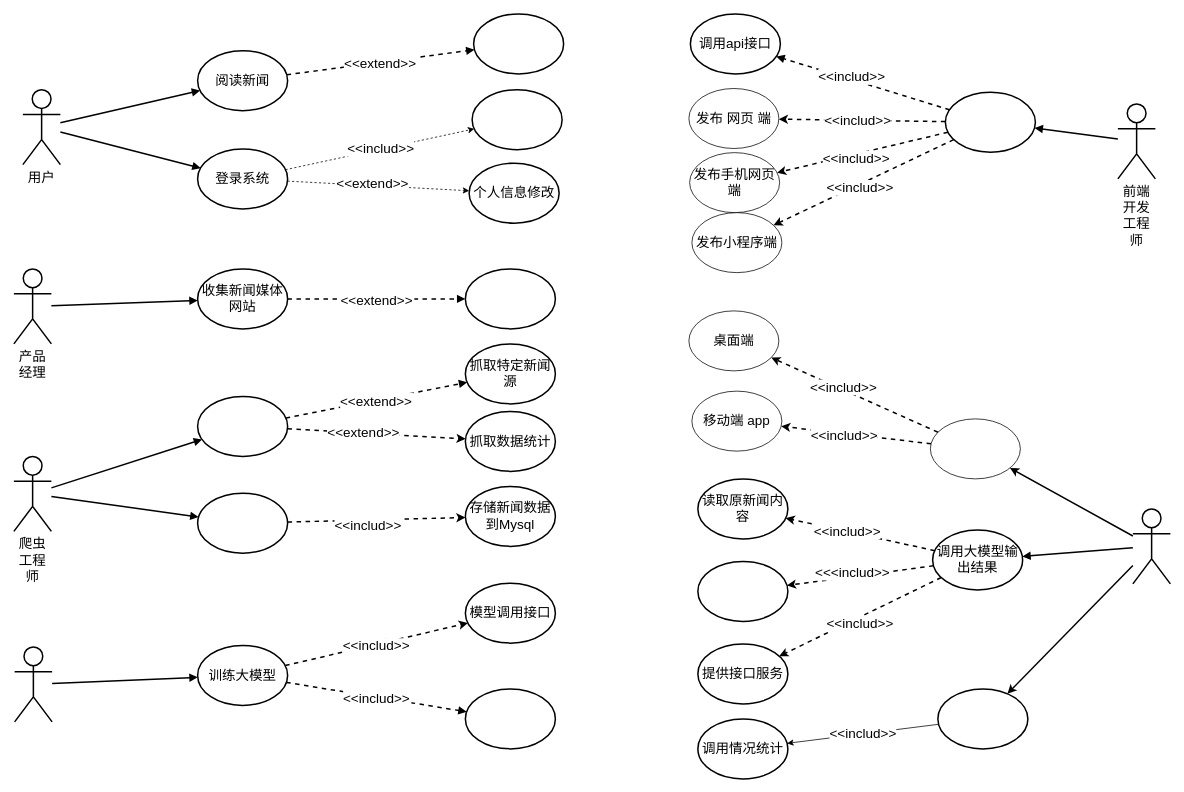
This 1184x792 diagram has some shape labels left out. Here are the shapes that lost their labels. From the top down, the centre of each, then its label:
[518,43]: 内容长度 设置
[516,119]: 登录验证
[990,122]: 开发新闻阅读页面
[510,298]: 收集用户反馈
[242,426]: 抓取新闻数据
[975,448]: 打包新闻阅读应用
[242,523]: 数据清洗
[1151,546]: 后端开发工程师
[742,591]: 存储精简概括内容
[33,684]: 算法工程师
[510,718]: 模型优化
[982,718]: 用户数据统计
